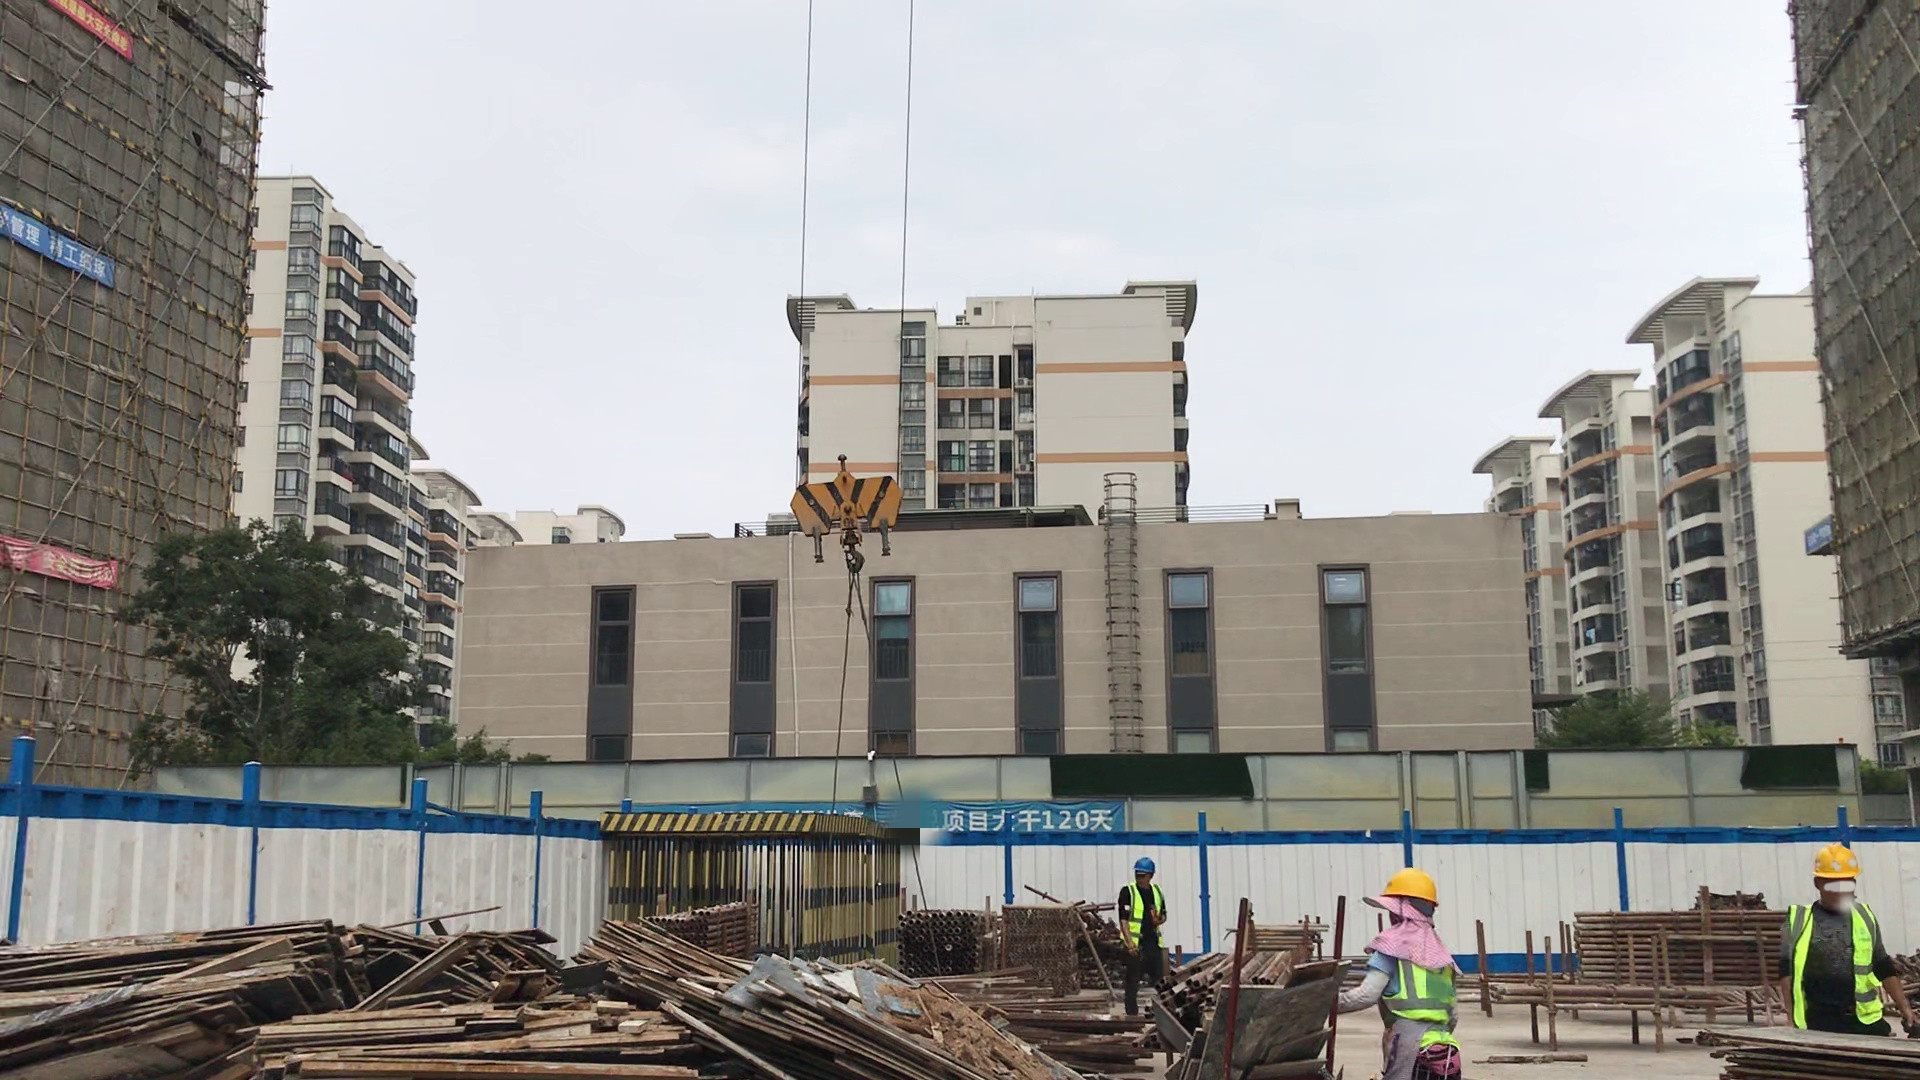board: (588, 930, 979, 1080), (1, 920, 320, 1080), (234, 1000, 680, 1080), (1690, 1018, 1852, 1080)
helmet: (1375, 866, 1456, 912), (1814, 840, 1865, 889), (1129, 855, 1155, 873)
hook: (775, 443, 942, 584)
person: (1334, 863, 1473, 1080), (1771, 839, 1920, 1039), (1113, 849, 1179, 997)
scaffold: (1562, 896, 1769, 975), (899, 905, 996, 973), (653, 903, 758, 959)
slogan: (896, 780, 1146, 852), (1, 203, 109, 300), (1, 531, 125, 600), (59, 1, 150, 58)
vest: (1783, 899, 1893, 1036), (1367, 934, 1467, 1059), (1122, 879, 1170, 952)
